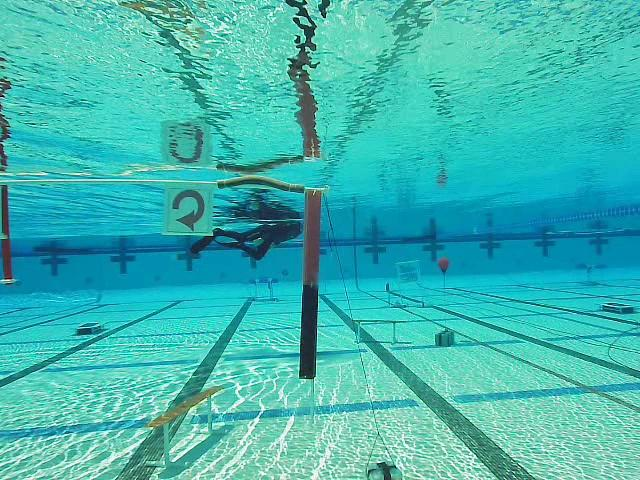buoy: (438, 258, 450, 275)
dropper: (599, 300, 636, 315), (74, 321, 103, 335)
gate_leg_r: (298, 184, 324, 380)
gate_red: (165, 186, 211, 235)
table: (246, 276, 279, 303)
torpedo: (398, 262, 419, 283)
